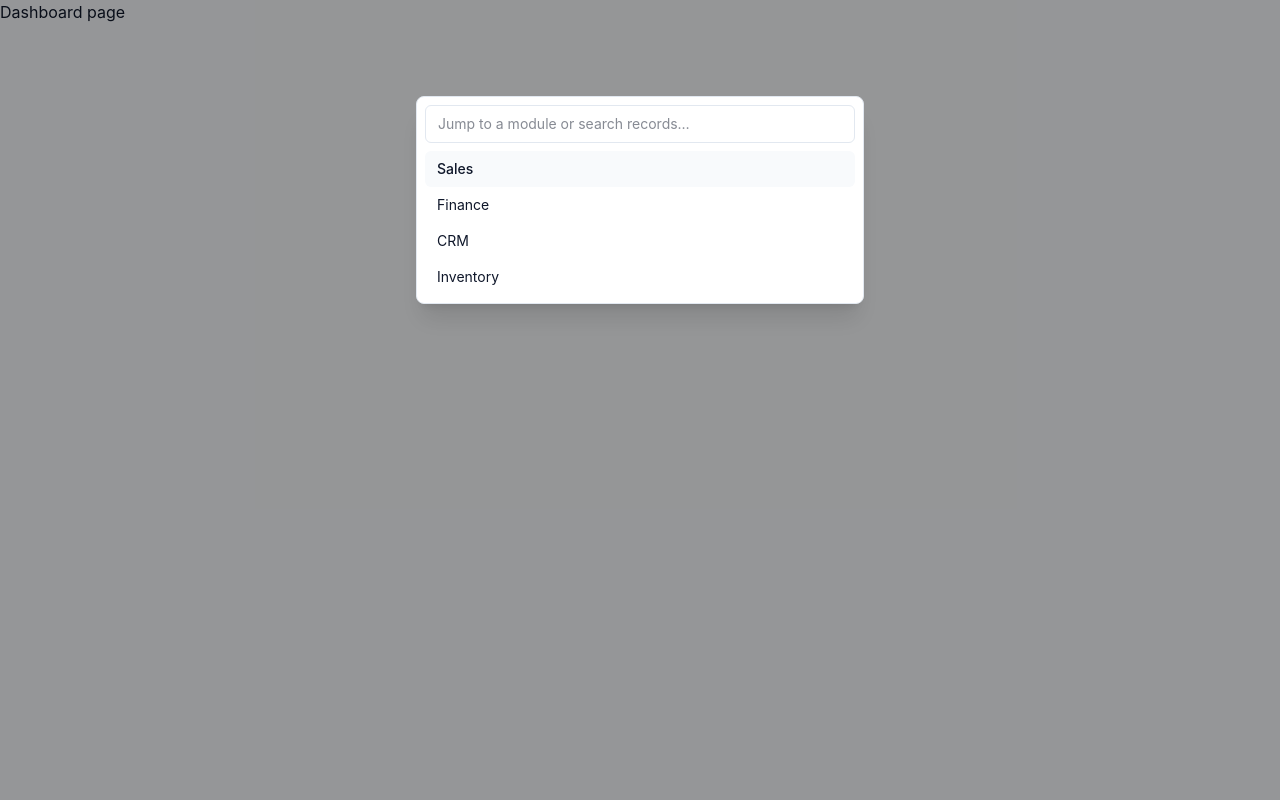
Scenario: CommandPalette › shows a "no matching modules" message when the query matches nothing
Type "zzz" into the dropdown. click: (640, 124)
box: [425, 105, 855, 143]
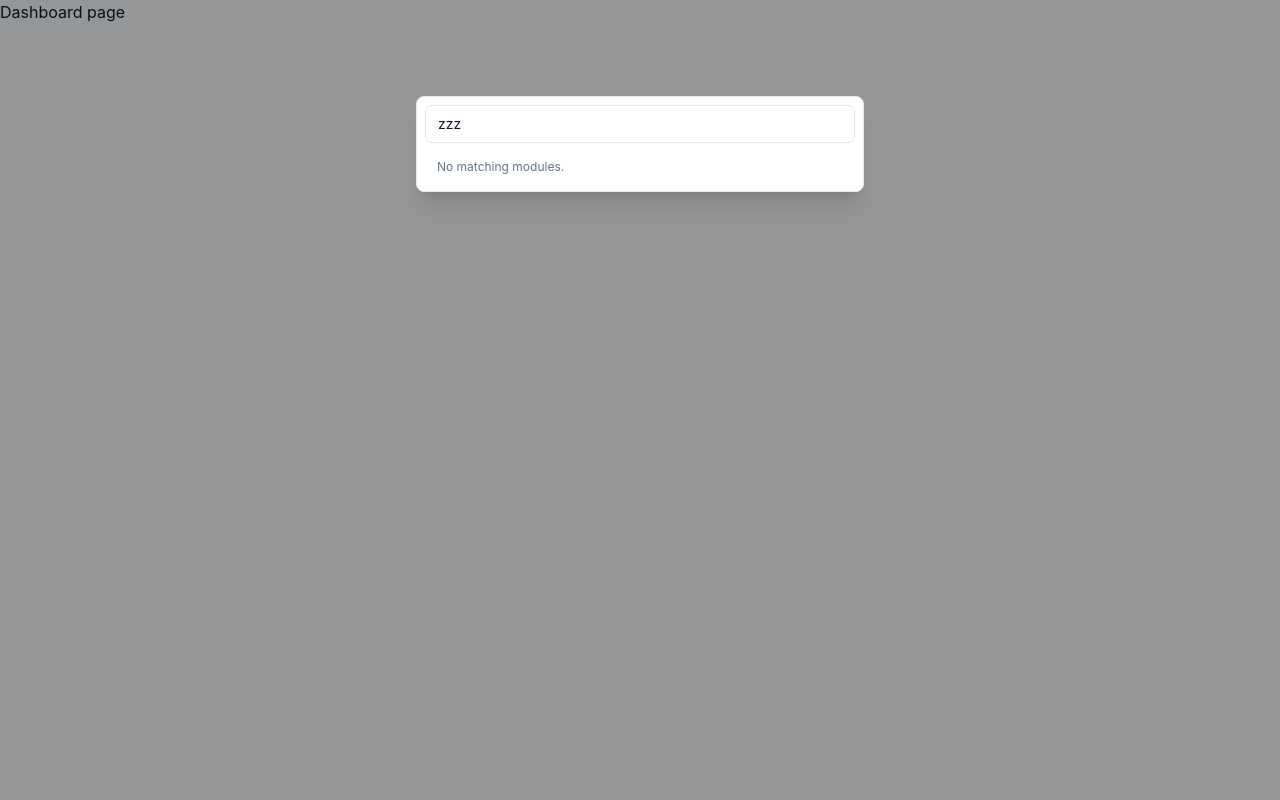
Now the text "No matching modules." is shown, box [437, 159, 564, 174]
